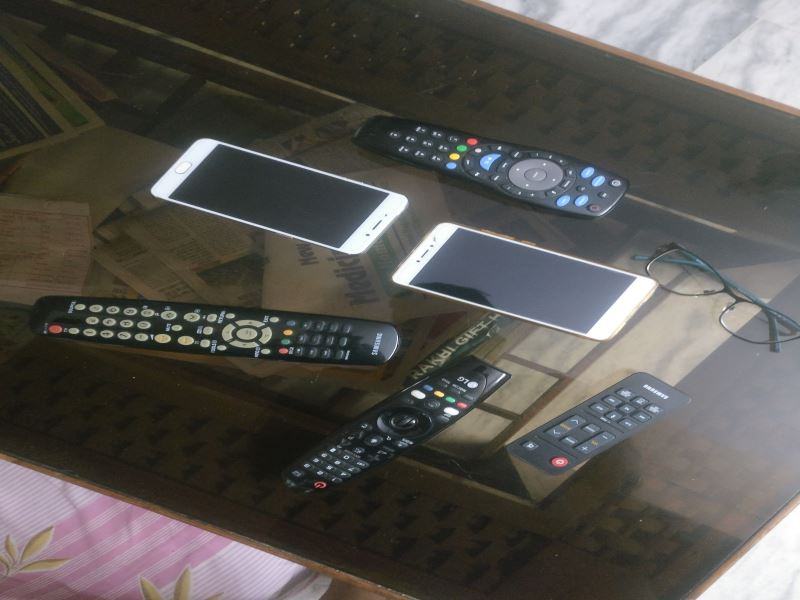tv remote: (283, 356, 510, 500), (345, 114, 627, 216), (27, 296, 402, 367), (504, 363, 689, 477)
